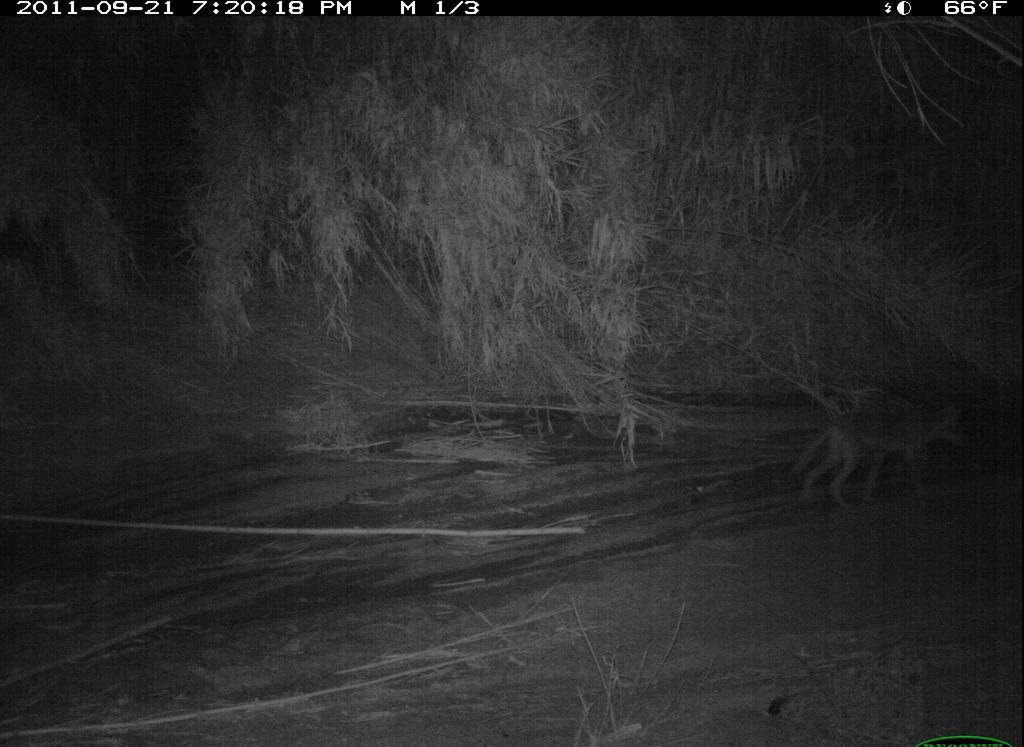coyote: (758, 397, 966, 507)
